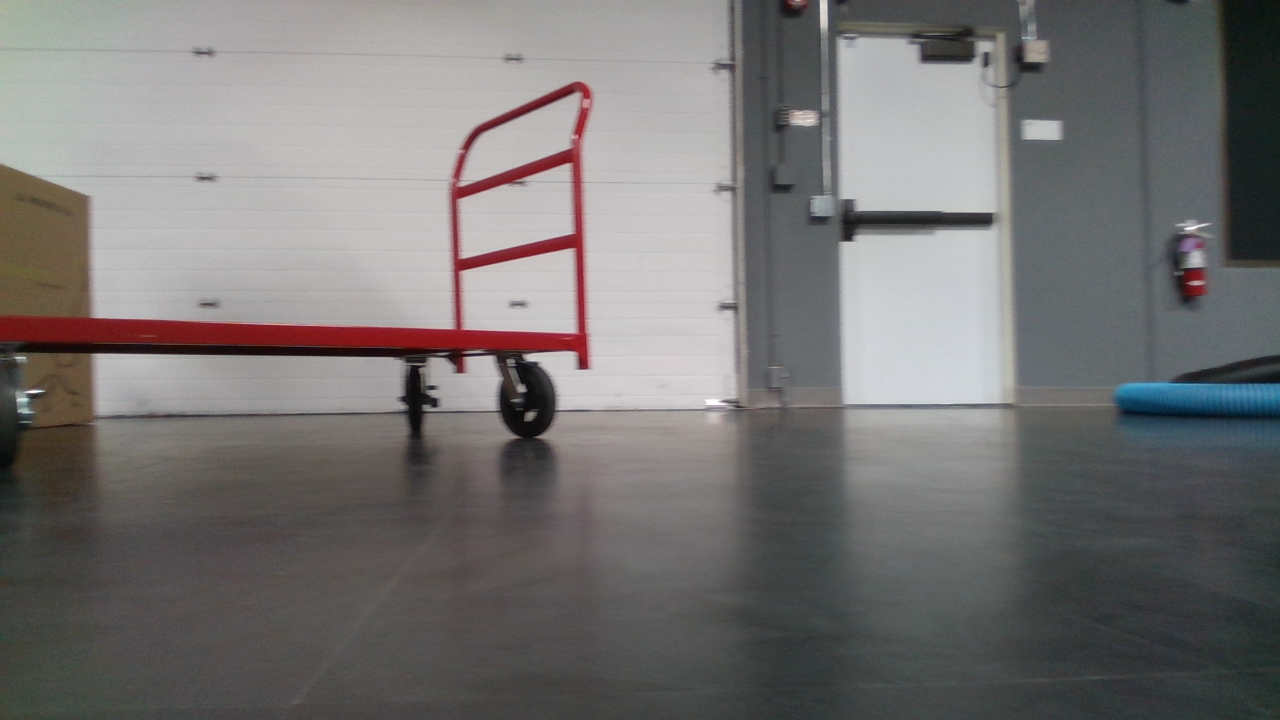Dolly: (0, 76, 599, 481)
Wheel: (0, 356, 46, 472), (495, 361, 559, 442), (397, 361, 440, 435)
